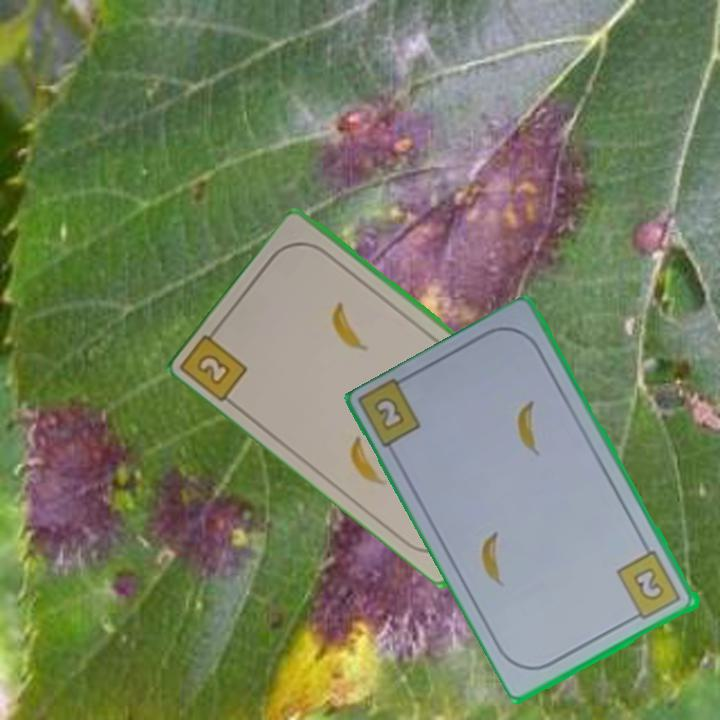2b: (180, 319, 252, 405), (613, 547, 685, 625), (367, 393, 409, 434)
